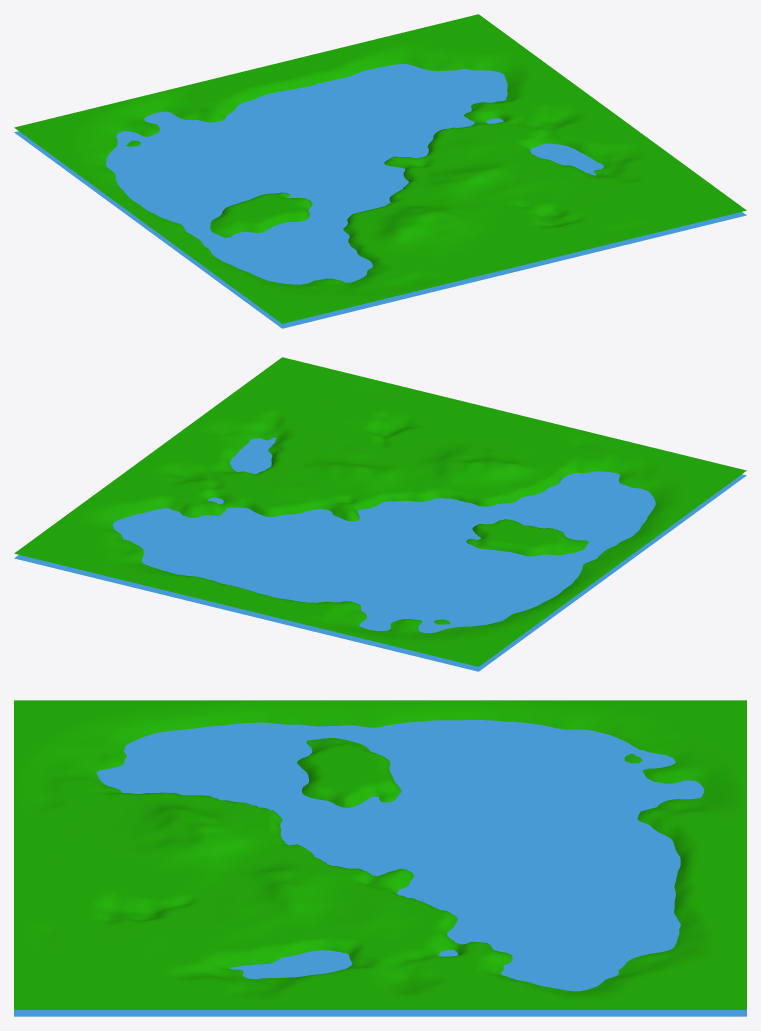
The model's file is Lake01.fbx.
The picture shows the model from 3 angles, top to bottom: view 1: azimuth 30°, elevation 25°; view 2: azimuth 150°, elevation 25°; view 3: azimuth 270°, elevation 25°; orthographic projection. The views are drawn at different scales.
Parts seen in each view (by area): view 1: LakeArea, Lake; view 2: LakeArea, Lake; view 3: LakeArea, Lake.
Boxes of the visible parts, bbox=[...] form: LakeArea: bbox=[14, 14, 746, 323]; Lake: bbox=[14, 64, 746, 328]; LakeArea: bbox=[14, 357, 746, 666]; Lake: bbox=[14, 437, 746, 671]; LakeArea: bbox=[14, 700, 746, 1009]; Lake: bbox=[14, 720, 746, 1016].
Bounding box in the file's own units: 200 × 26.14 × 200.
